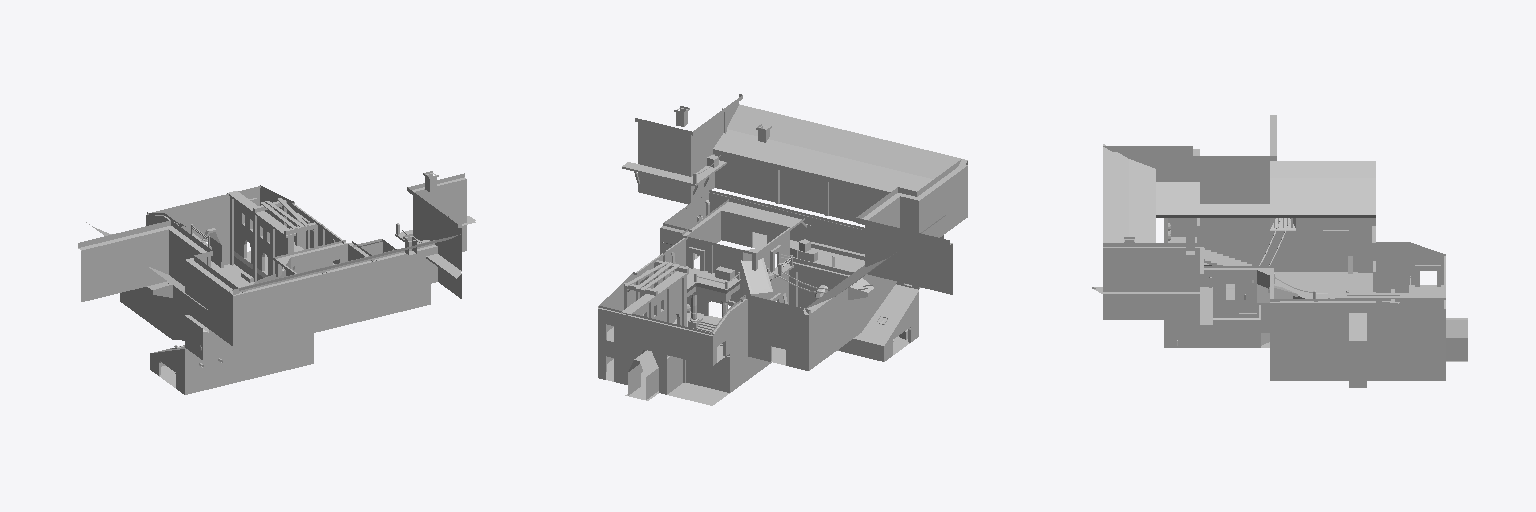
Rendered from Square.obj.
3 views of the same model, side by side, from view 1: azimuth 30°, elevation 25°; view 2: azimuth 150°, elevation 25°; view 3: azimuth 270°, elevation 25° (orthographic).
Visible parts, largest first — view 1: pCube138, pPlane11, pCube1, pCube46, polySurface21, pCube4, pCube5, polySurface5, polySurface6, polySurface50, polySurface22, polySurface68; view 2: pPlane11, pCube138, pCube1, pCube5, pCube46, pCube4, polySurface6, pCube2, polySurface21, pCube3, polySurface4, polySurface22 (+5 smaller); view 3: pCube1, polySurface50, pCube46, pCube138, pPlane11, pCube5, polySurface52, polySurface6, polySurface2, pCube4, pCube26.
Boxes of the visible parts, box(x1,y1,x2,y2) form: pCube138: box(78, 220, 238, 345); pPlane11: box(209, 234, 460, 337); pCube1: box(86, 222, 430, 359); pCube46: box(395, 173, 475, 298); polySurface21: box(185, 333, 313, 394); pCube4: box(191, 186, 260, 267); pCube5: box(254, 240, 371, 283); polySurface5: box(150, 349, 184, 394); polySurface6: box(146, 203, 191, 233); polySurface50: box(260, 185, 347, 263); polySurface22: box(159, 264, 254, 387); polySurface68: box(227, 191, 295, 237); pPlane11: box(713, 104, 967, 238); pCube138: box(856, 159, 967, 294); pCube1: box(660, 190, 945, 370); pCube5: box(682, 199, 804, 313); pCube46: box(622, 94, 742, 204); pCube4: box(598, 306, 667, 400); polySurface6: box(667, 296, 747, 392); pCube2: box(748, 301, 808, 370); polySurface21: box(695, 232, 918, 307); pCube3: box(667, 349, 729, 393); polySurface4: box(853, 284, 918, 345); polySurface22: box(606, 307, 909, 405); pCube1: box(1156, 161, 1375, 347); polySurface50: box(1270, 299, 1445, 380); pCube46: box(1092, 243, 1212, 324); pCube138: box(1103, 115, 1276, 203); pPlane11: box(1103, 144, 1155, 242); pCube5: box(1200, 266, 1297, 345); polySurface52: box(1340, 299, 1375, 387); polySurface6: box(1376, 242, 1445, 292); polySurface2: box(1274, 272, 1375, 298); pCube4: box(1444, 278, 1467, 361); pCube26: box(1358, 218, 1375, 272).
Bounding box in the file's own units: 1511 × 664 × 1367.